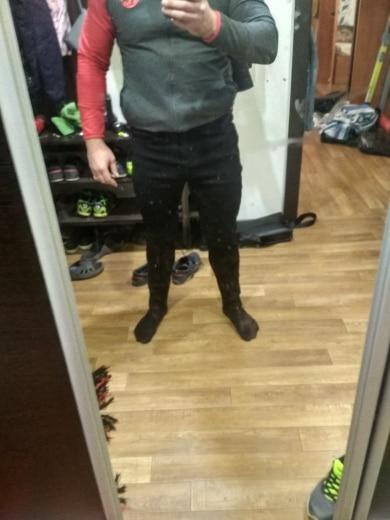jeans: (107, 111, 242, 303)
